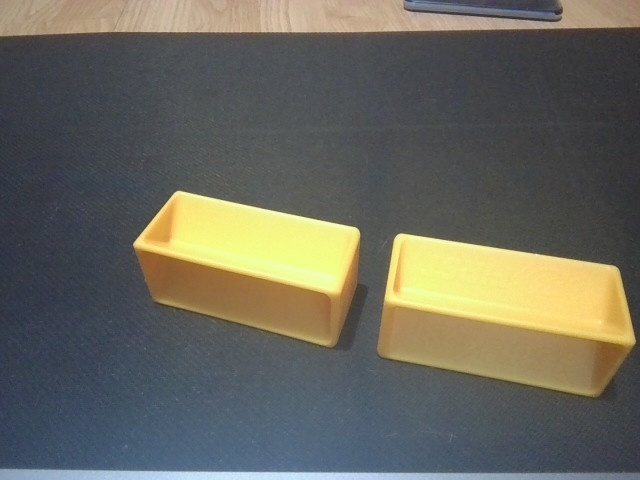YellowSample: (374, 228, 637, 404), (126, 188, 362, 353)
